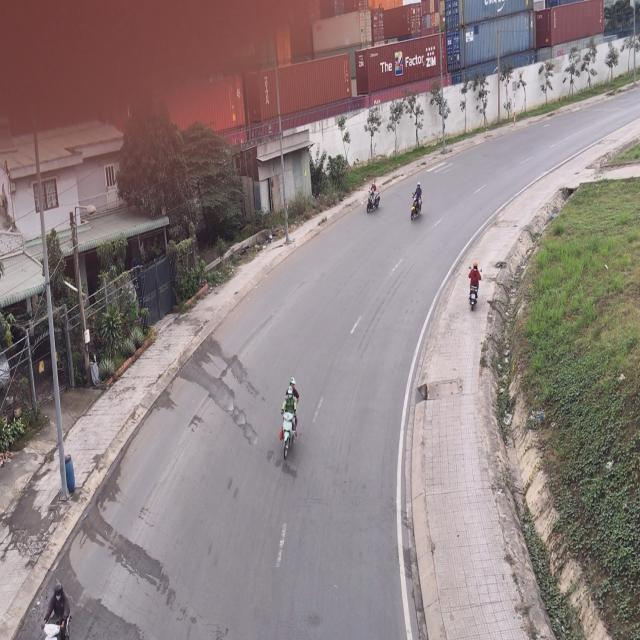motorbike: (278, 377, 299, 462), (41, 585, 72, 640), (465, 264, 479, 312), (410, 181, 425, 224), (365, 178, 380, 215)
